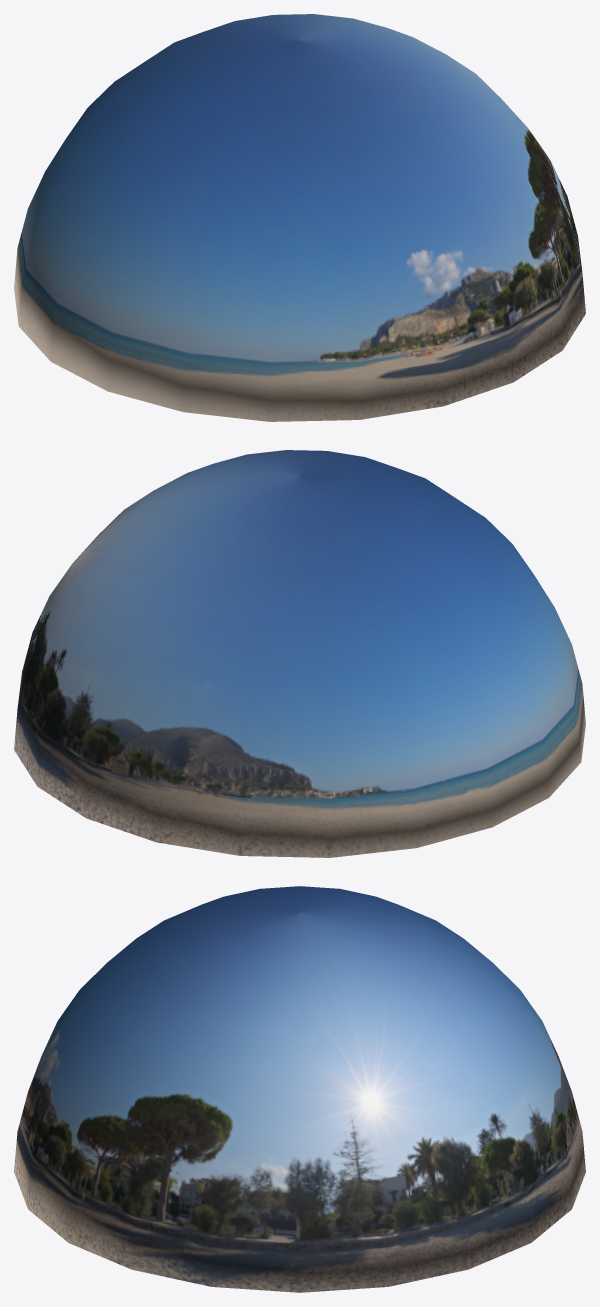
File: skydoom.fbx
3 views of the same model, one above another, from view 1: azimuth 30°, elevation 25°; view 2: azimuth 150°, elevation 25°; view 3: azimuth 270°, elevation 25° (orthographic).
Parts seen in each view (by area): view 1: pSphere1; view 2: pSphere1; view 3: pSphere1.
Boxes of the visible parts, x1=… form: pSphere1: x1=14, y1=14, x2=585, y2=421; pSphere1: x1=14, y1=450, x2=585, y2=857; pSphere1: x1=14, y1=886, x2=585, y2=1292.
Bounding box in the file's own units: 23.98 × 13.86 × 23.98.
1 material, 1 textured.
